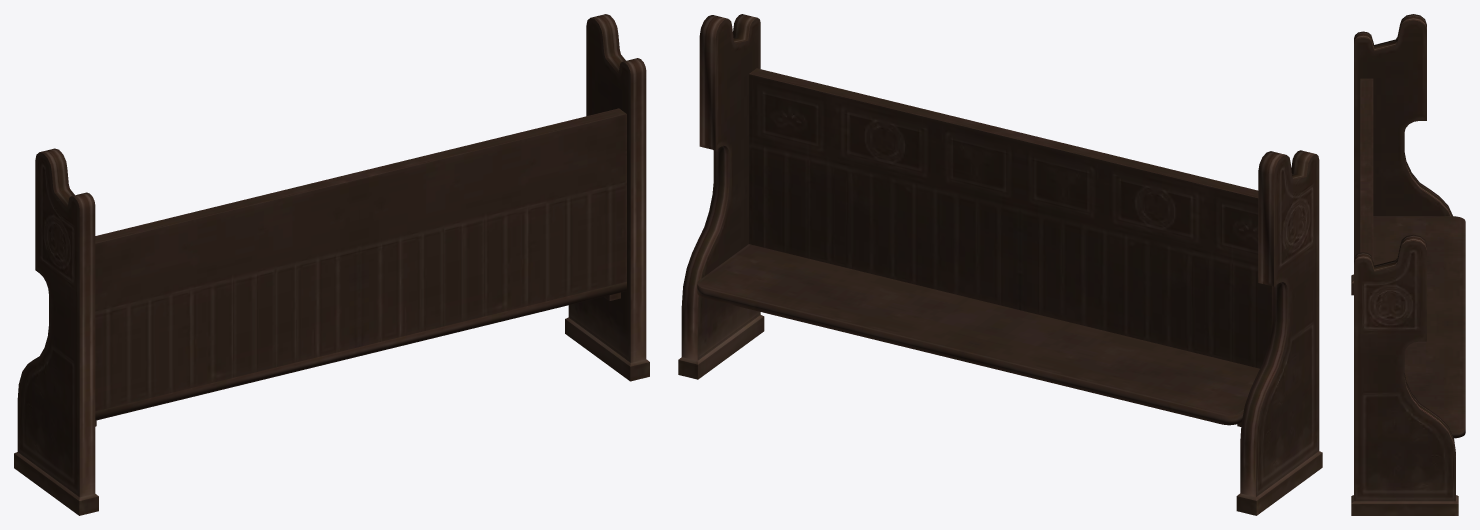
File: pew.glb
The picture shows the model from 3 angles, left to right: view 1: azimuth 30°, elevation 25°; view 2: azimuth 150°, elevation 25°; view 3: azimuth 270°, elevation 25°; orthographic projection. The views are drawn at different scales.
Visible parts, largest first — view 1: Object_2; view 2: Object_2; view 3: Object_2.
Boxes of the visible parts, x1=… form: Object_2: x1=14, y1=14, x2=649, y2=515; Object_2: x1=678, y1=14, x2=1322, y2=515; Object_2: x1=1351, y1=14, x2=1465, y2=515.
Size of the model in its own units: 11.96 by 6.69 by 2.52.
1 material, 1 textured.
